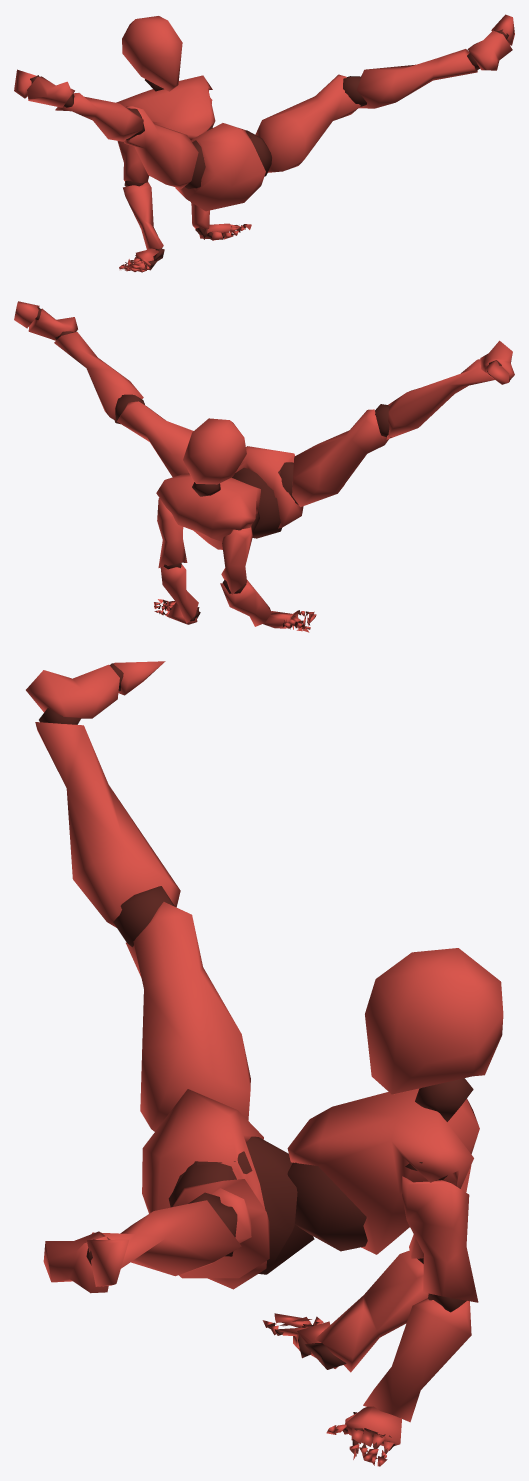
The picture shows the model from 3 angles, top to bottom: view 1: azimuth 30°, elevation 25°; view 2: azimuth 150°, elevation 25°; view 3: azimuth 270°, elevation 25°; orthographic projection. The views are drawn at different scales.
Parts seen in each view (by area): view 1: Beta_Surface; view 2: Beta_Surface; view 3: Beta_Surface.
Part boxes in pixels (x1,y1,x2,y2): Beta_Surface: [14, 14, 514, 272]; Beta_Surface: [14, 301, 514, 632]; Beta_Surface: [26, 661, 503, 1466].
Bounding box in the file's own units: 20.88 × 10.96 × 8.7.
